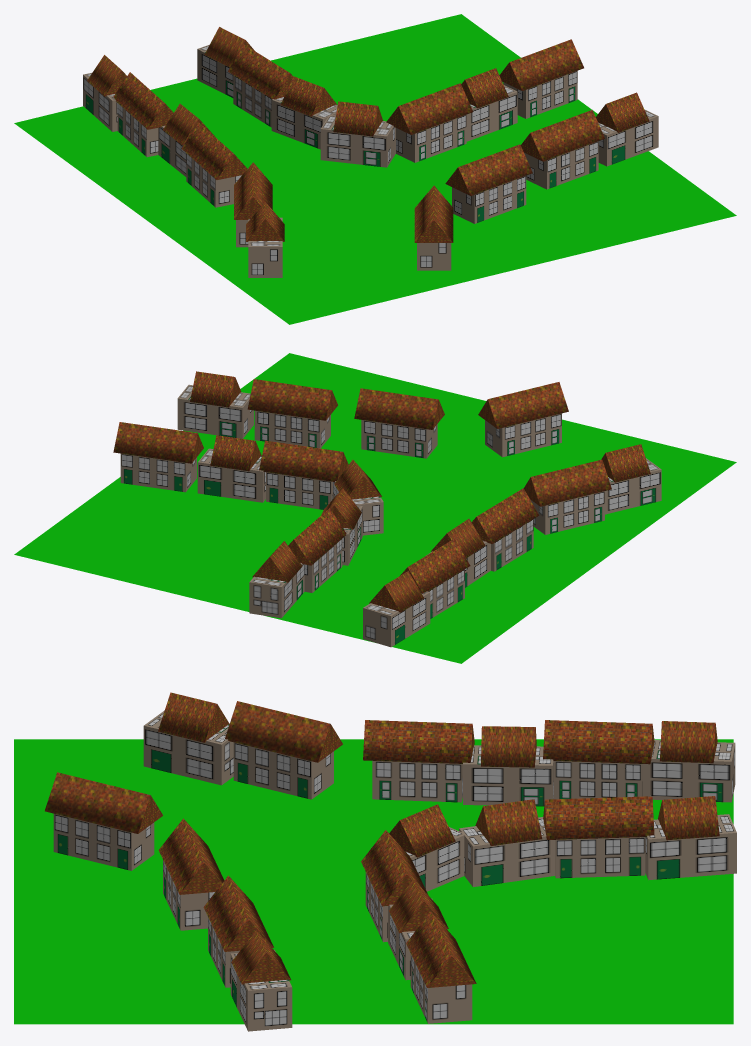
Rendered from village.glb.
3 renders of one model, top to bottom at view 1: azimuth 30°, elevation 25°; view 2: azimuth 150°, elevation 25°; view 3: azimuth 270°, elevation 25°, orthographic. The views are drawn at different scales.
Visible parts, largest first — view 1: ground, box_merged (×2), house2, house6, house4, house7, house11, house8, house9, house13, house5, house3 (+5 smaller); view 2: ground, box_merged (×2), house4, house2, house3, house15, house6, house5, house14, house11, house16, house10 (+5 smaller); view 3: ground, box_merged (×2), house3, house15, house11, house9, house13, house10, house8, house16, house14, house12 (+5 smaller).
Boxes of the visible parts, bbox=[...] form: ground: bbox=[14, 14, 736, 324]; box_merged (×2): bbox=[520, 92, 658, 189]; house2: bbox=[445, 144, 532, 223]; house6: bbox=[386, 83, 472, 162]; house4: bbox=[499, 39, 583, 118]; house7: bbox=[320, 101, 395, 167]; house11: bbox=[181, 123, 247, 207]; house8: bbox=[271, 76, 337, 149]; house9: bbox=[228, 44, 293, 127]; house13: bbox=[113, 72, 173, 157]; house5: bbox=[461, 68, 517, 141]; house3: bbox=[414, 185, 453, 270]; ground: bbox=[14, 353, 736, 663]; box_merged (×2): bbox=[177, 371, 337, 448]; house4: bbox=[113, 422, 203, 492]; house2: bbox=[354, 388, 444, 458]; house3: bbox=[478, 382, 568, 457]; house15: bbox=[523, 459, 611, 534]; house6: bbox=[259, 440, 348, 509]; house5: bbox=[197, 435, 265, 502]; house14: bbox=[363, 571, 430, 647]; house11: bbox=[471, 488, 539, 571]; house16: bbox=[601, 444, 661, 514]; house10: bbox=[249, 541, 304, 618]; ground: bbox=[14, 739, 733, 1024]; box_merged (×2): bbox=[203, 875, 292, 1031]; house3: bbox=[45, 772, 162, 870]; house15: bbox=[225, 701, 342, 799]; house11: bbox=[363, 720, 474, 802]; house9: bbox=[543, 796, 654, 878]; house13: bbox=[543, 720, 654, 799]; house10: bbox=[645, 796, 736, 880]; house8: bbox=[459, 799, 555, 886]; house16: bbox=[143, 692, 233, 785]; house14: bbox=[642, 721, 735, 802]; house12: bbox=[463, 726, 553, 806].
Size of the model in its own units: 15.38 by 1.71 by 16.07.
5 materials, 4 textured.
